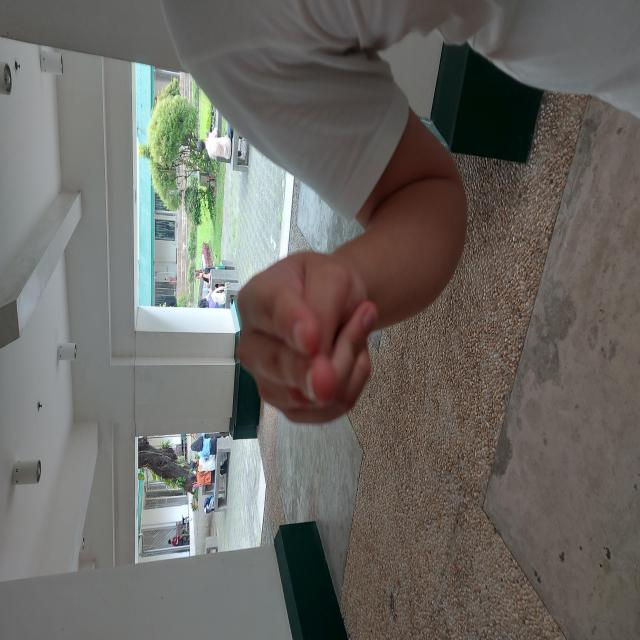N: (212, 234, 391, 379)
